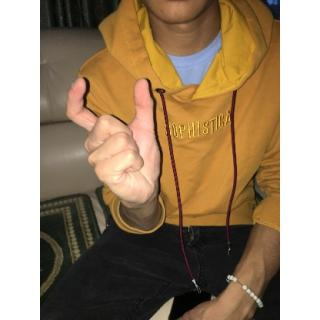NOON: (66, 74, 170, 220)
